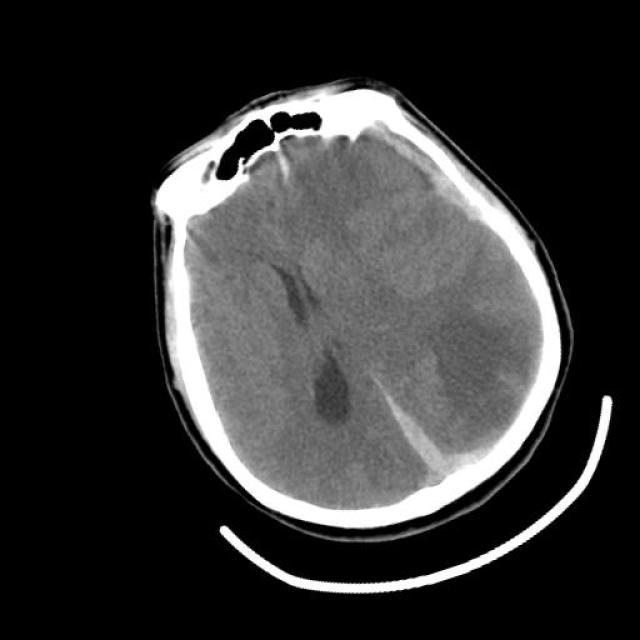Subdural: (351, 72, 535, 276), (348, 344, 488, 521)
